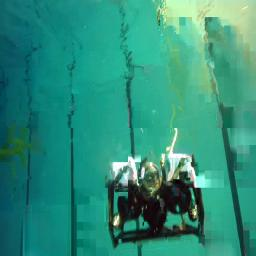front: (105, 152, 205, 249)
